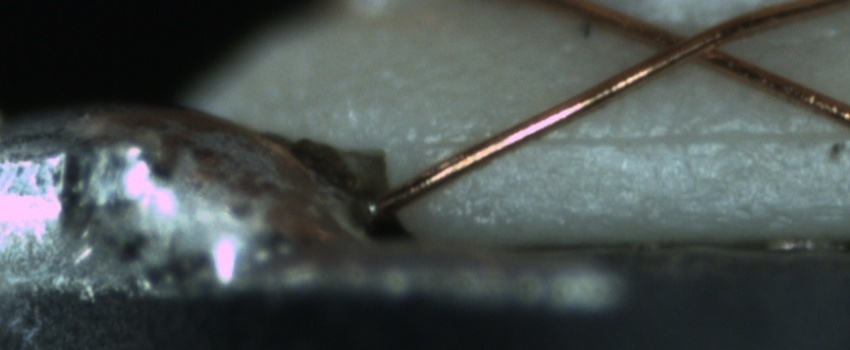CL: (645, 17, 740, 73)
DL: (425, 104, 849, 171)
